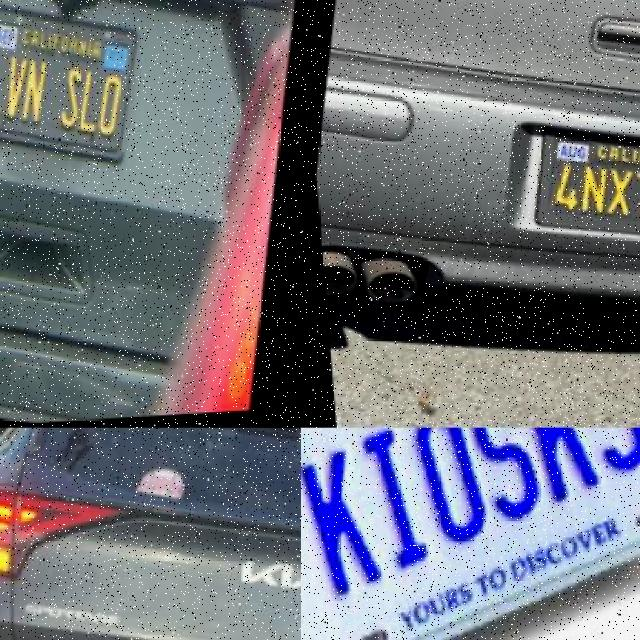licenseplate: (300, 427, 640, 640), (0, 0, 143, 169), (528, 126, 640, 240)
